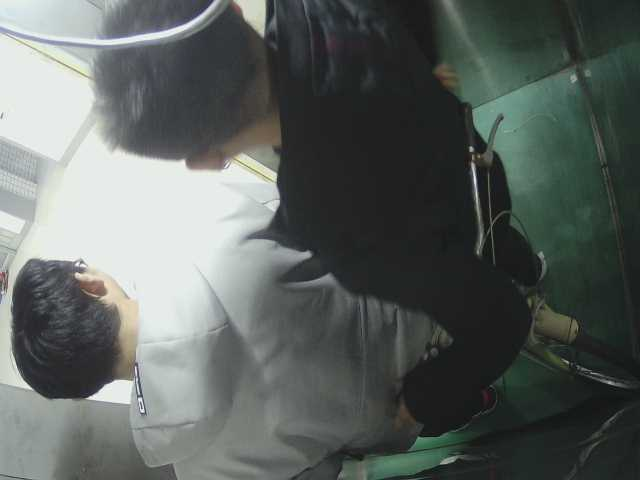bicycle: (402, 105, 632, 400)
person: (85, 1, 549, 335), (7, 238, 458, 477)
